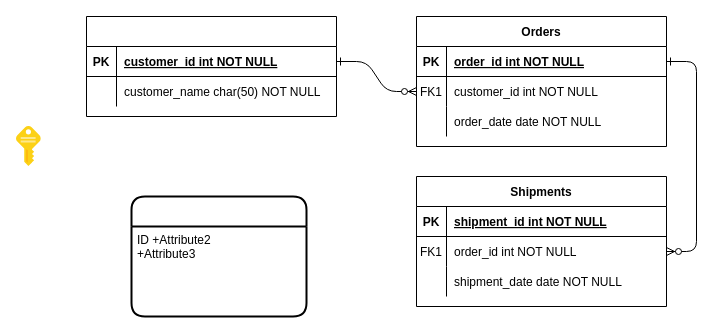
The diagram is 713 pixels wide and 333 high, and some of its shapes have lost their labels. Here are the shapes that lost their labels. From the top down, the box of each, then its label:
(86, 16, 336, 116): Account
(130, 195, 307, 317): Entity
